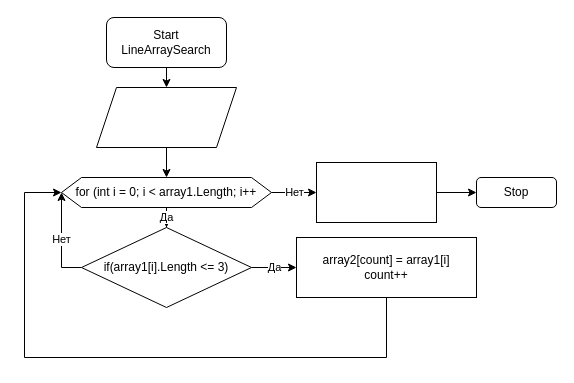
This 574x383 diagram has some shape labels left out. Each missing label, with the centre of its shape:
PrintArray(array2): the point at 376,192
string [] array1 string [] array2 int count = 0: the point at 166,117
